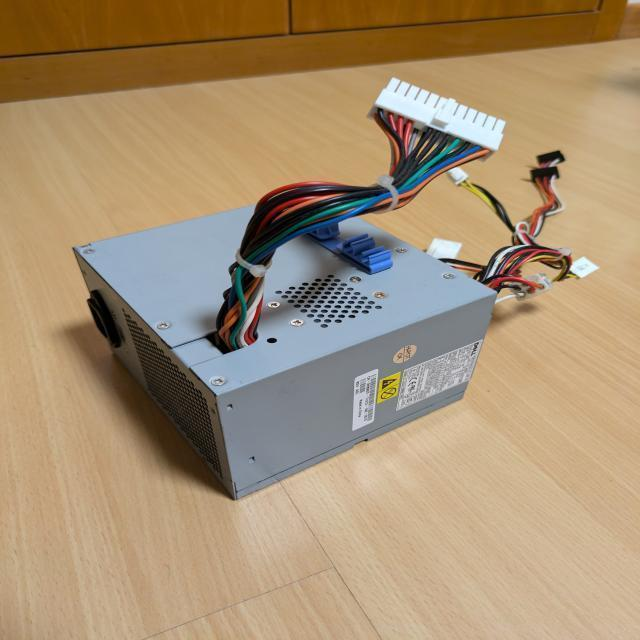PSU: (71, 195, 496, 502)
